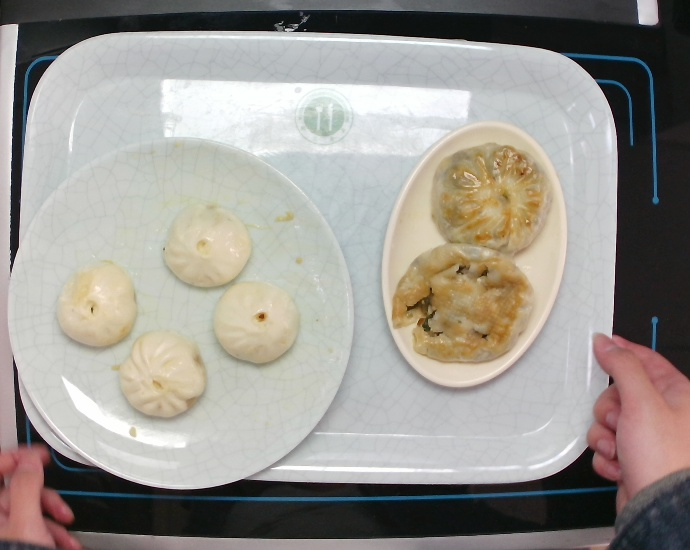JYsf-Da_Yuan_Pan: (2, 125, 359, 495)
JYsf-Tuo_Yuan_Wan: (372, 114, 577, 400)
